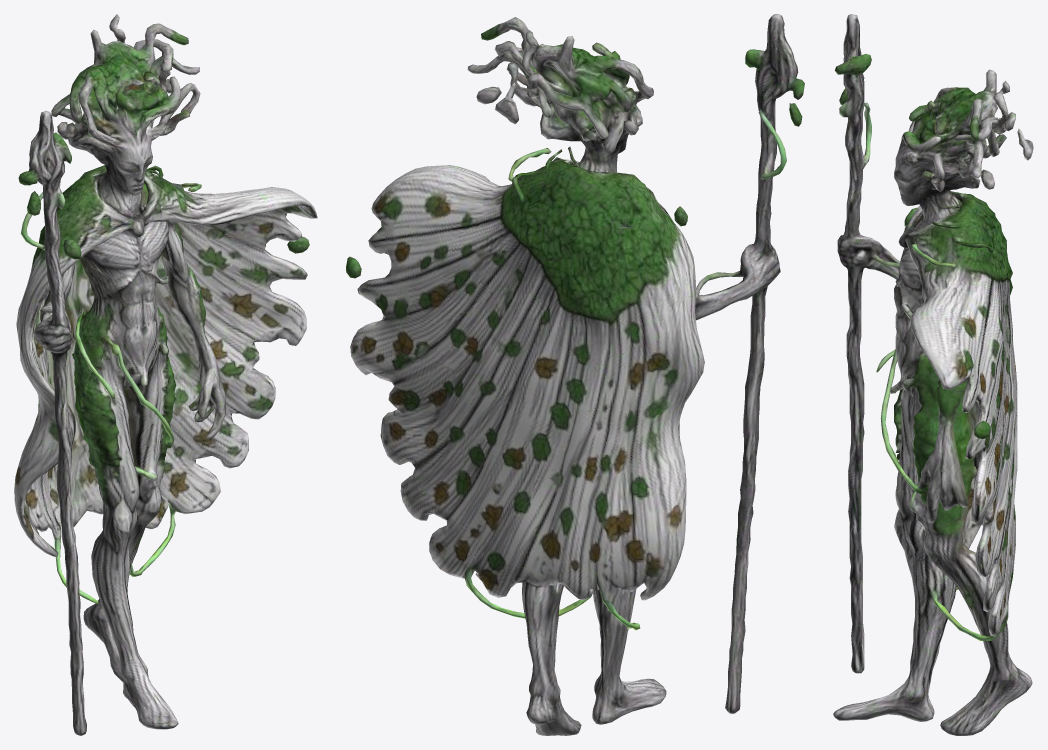
File: Druid_Sylvan.glb
The picture shows the model from 3 angles, left to right: view 1: azimuth 30°, elevation 25°; view 2: azimuth 150°, elevation 25°; view 3: azimuth 270°, elevation 25°; orthographic projection. The views are drawn at different scales.
Size of the model in its own units: 1.07 by 1.91 by 0.5284.
Materials: 1 (1 with a texture image).
